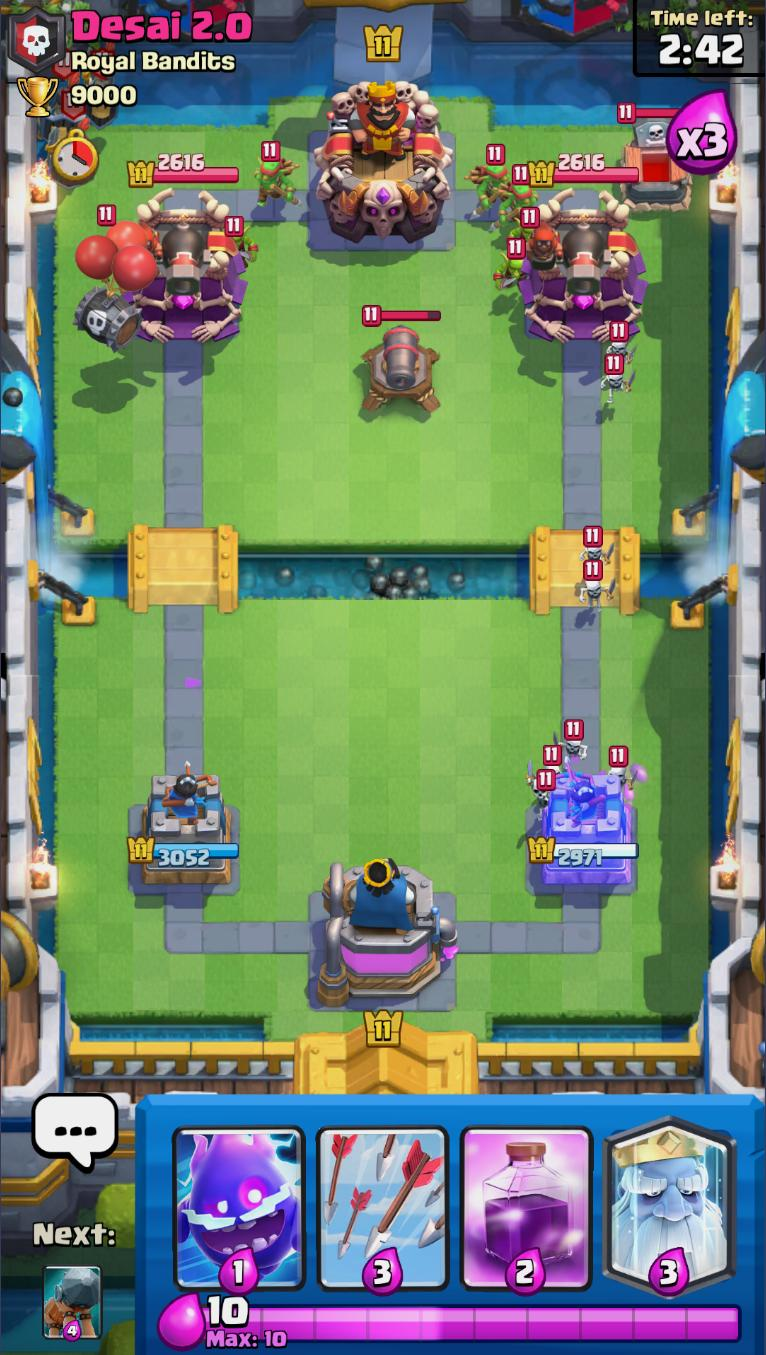ArrowDeck: (311, 1099, 454, 1293)
BattleRamNext: (41, 1263, 103, 1340)
Cannon: (360, 303, 443, 420)
Cannoneer: (524, 211, 610, 296), (124, 211, 207, 297)
ElectroSpiritDeck: (171, 1099, 310, 1294)
Elixir: (201, 1294, 746, 1349)
EnemyTower: (517, 184, 650, 344), (117, 187, 249, 343)
Goblin: (223, 213, 260, 269), (494, 239, 526, 296), (506, 207, 544, 241)
KingTower: (311, 77, 457, 246)
MyKingTower: (314, 857, 460, 1004)
MyPrincessTower: (527, 769, 643, 891), (126, 770, 241, 890)
MyPrincessTowerHP: (524, 831, 643, 871), (126, 831, 240, 870)
RageDeck: (454, 1099, 600, 1293)
RoyaleGhostDeck: (600, 1097, 740, 1293)
Skeleton: (579, 561, 619, 613), (605, 744, 643, 794), (551, 719, 590, 766), (603, 319, 640, 366), (599, 353, 633, 403), (579, 527, 614, 569), (525, 773, 557, 818), (542, 743, 569, 775)
SkeletonBarrel: (76, 204, 159, 356)
SpearGoblin: (253, 140, 306, 214), (469, 146, 510, 223), (500, 166, 541, 233)
Tombstone: (614, 101, 693, 214)
TowerPrincessHP: (526, 151, 641, 190), (124, 151, 240, 187)
